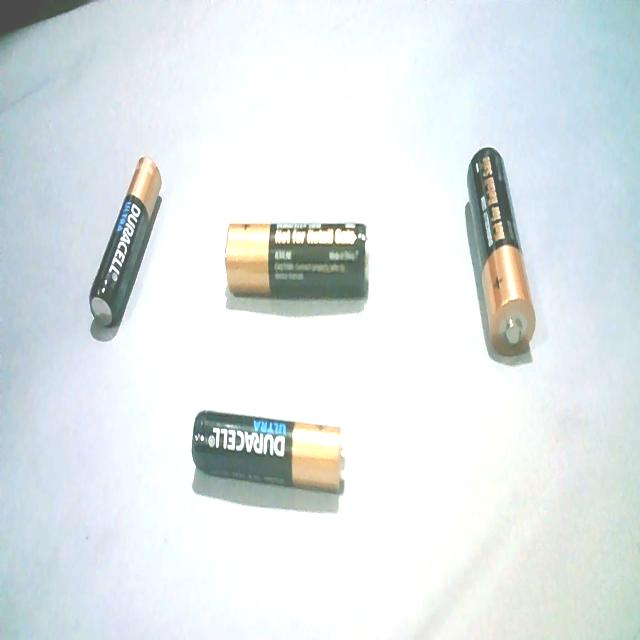AA: (466, 142, 540, 362), (222, 212, 373, 308)
AAA: (188, 402, 350, 504), (84, 150, 165, 340)
